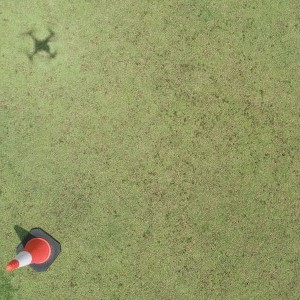traffic cone: (5, 227, 60, 271)
